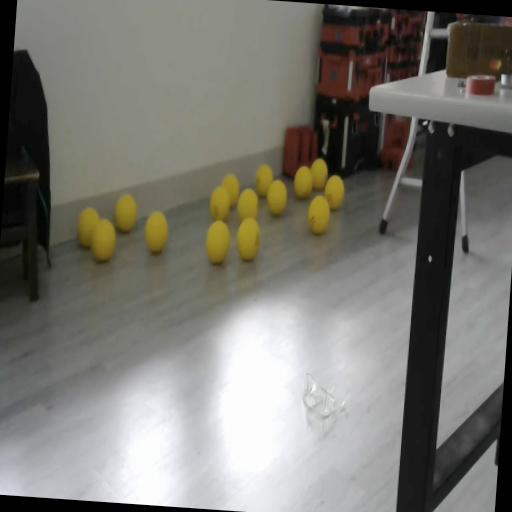FUEL: (203, 218, 233, 266), (88, 217, 118, 264), (234, 215, 262, 262), (142, 209, 170, 255), (306, 194, 332, 236), (113, 194, 138, 234), (265, 178, 289, 216), (322, 174, 346, 212), (236, 186, 260, 222), (292, 164, 314, 200), (220, 172, 241, 208), (254, 162, 274, 198), (309, 157, 329, 190)
